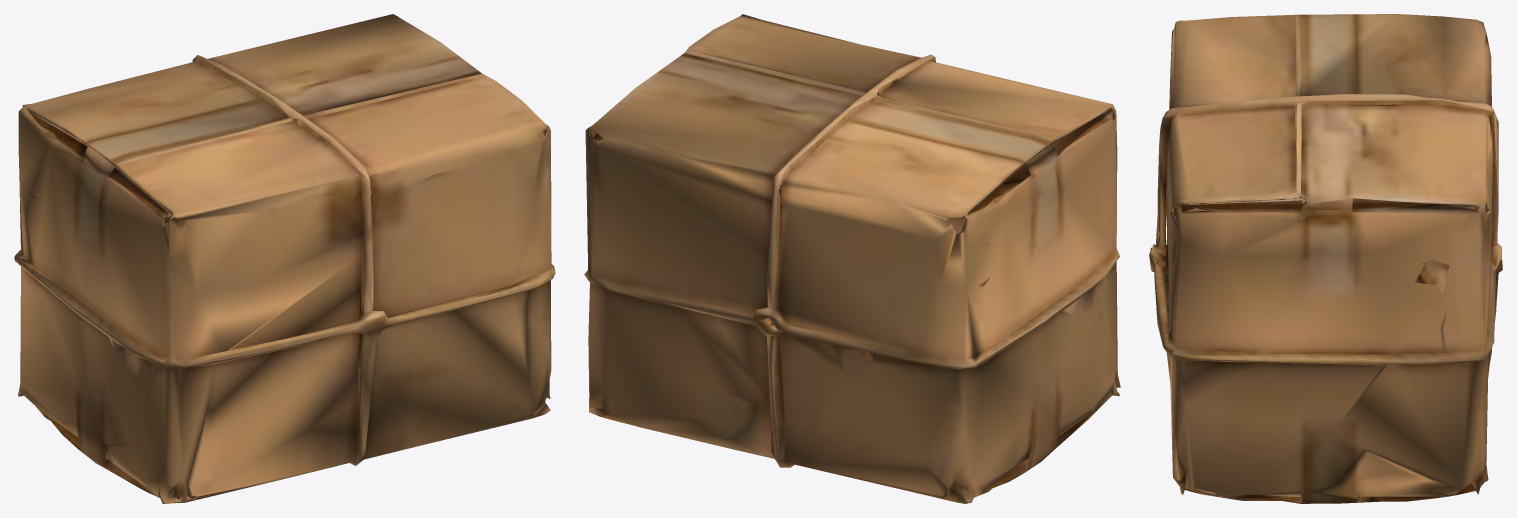
File: caja_mudanza.movil.glb
3 renders of one model, left to right at view 1: azimuth 30°, elevation 25°; view 2: azimuth 150°, elevation 25°; view 3: azimuth 270°, elevation 25°, orthographic.
Visible parts, largest first — view 1: geometry_0; view 2: geometry_0; view 3: geometry_0.
Boxes of the visible parts, x1,y1,x2,y2 form: geometry_0: (14,14,555,503); geometry_0: (584,14,1120,503); geometry_0: (1149,14,1502,503).
Bounding box in the file's own units: 0.598 × 0.45 × 0.4481.
1 material, 1 textured.
